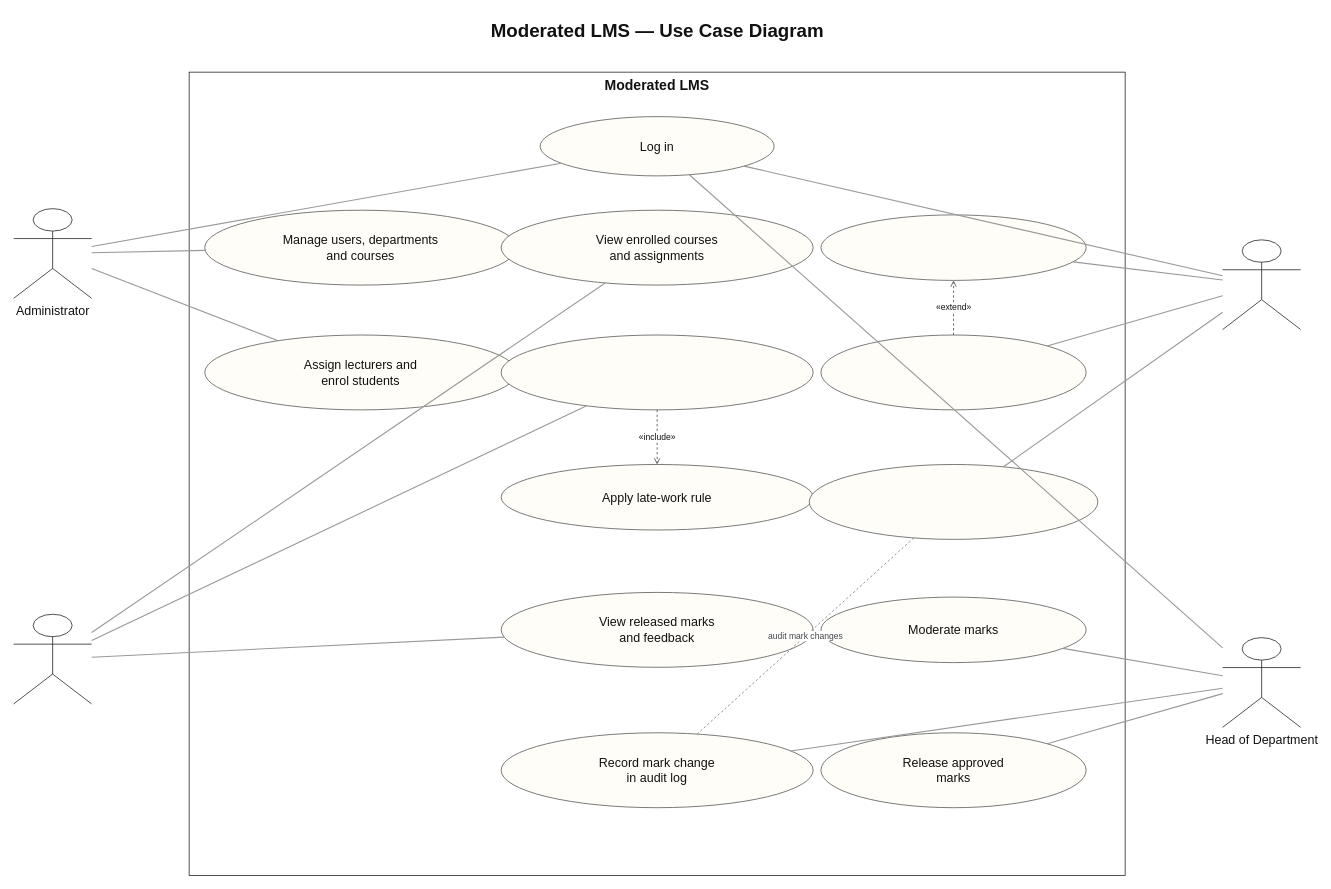
The diagram is 1331 pixels wide and 889 high, and some of its shapes have lost their labels. Here are the shapes that lost their labels. From the top down, the centre of each, then its label:
At point 953,247: "Create assignment".
At point 1261,284: "Lecturer".
At point 656,372: "Submit / resubmit assignment".
At point 953,372: "Grant individual extension".
At point 953,501: "Mark submission and write feedback".
At point 52,658: "Student".
